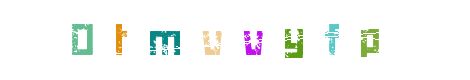0: (79, 0, 159, 80)
F: (254, 0, 334, 80)
M: (125, 0, 205, 80)
P: (316, 0, 396, 80)
T: (121, 0, 201, 80)
V: (174, 0, 254, 80), (196, 0, 276, 80)
Y: (213, 0, 293, 80)
